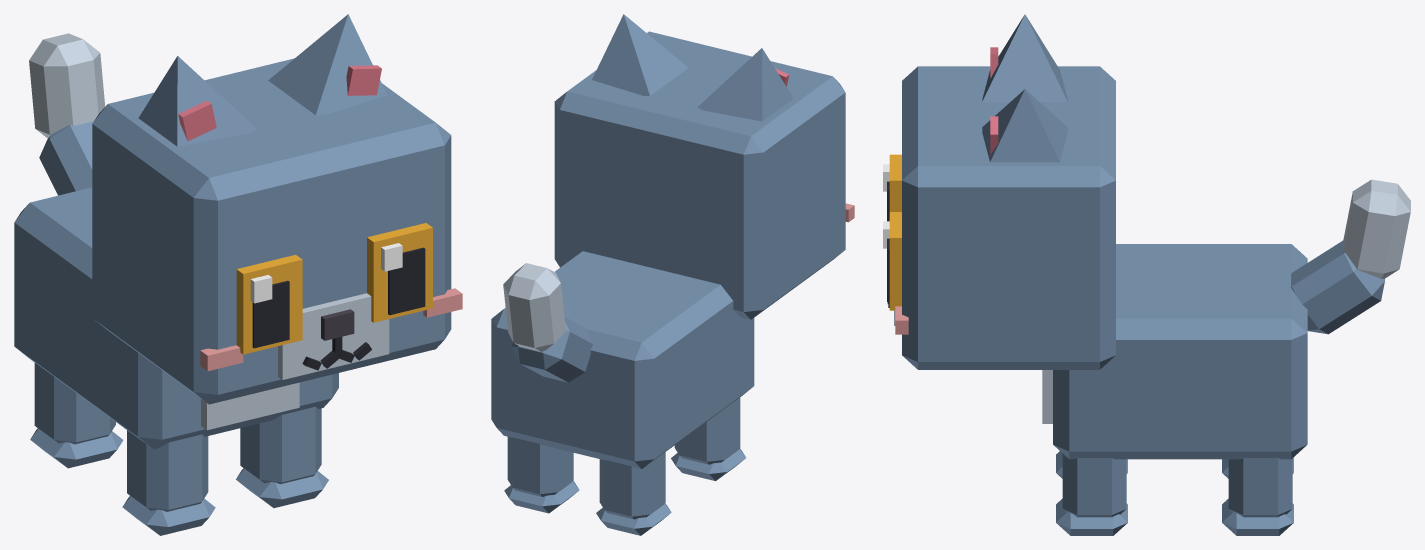
Rendered from CatCafe_Cat_Puddle.glb.
3 views of the same model, side by side, from view 1: azimuth 30°, elevation 25°; view 2: azimuth 150°, elevation 25°; view 3: azimuth 270°, elevation 25° (orthographic). The views are drawn at different scales.
Parts seen in each view (by area): view 1: CatCafe_Cat_Puddle_Head, CatCafe_Cat_Puddle_Body, CatCafe_Cat_Puddle_Tail, CatCafe_Cat_Puddle_LegF2, CatCafe_Cat_Puddle_LegF1, CatCafe_Cat_Puddle_EarL, CatCafe_Cat_Puddle_Eye2, CatCafe_Cat_Puddle_LegB2, CatCafe_Cat_Puddle_Eye1, CatCafe_Cat_Puddle_EarR; view 2: CatCafe_Cat_Puddle_Head, CatCafe_Cat_Puddle_Body, CatCafe_Cat_Puddle_Tail, CatCafe_Cat_Puddle_LegB2, CatCafe_Cat_Puddle_EarL, CatCafe_Cat_Puddle_LegB1, CatCafe_Cat_Puddle_EarR, CatCafe_Cat_Puddle_LegF2; view 3: CatCafe_Cat_Puddle_Head, CatCafe_Cat_Puddle_Body, CatCafe_Cat_Puddle_Tail, CatCafe_Cat_Puddle_LegF1, CatCafe_Cat_Puddle_LegB1, CatCafe_Cat_Puddle_EarL, CatCafe_Cat_Puddle_EarR, CatCafe_Cat_Puddle_Eye1, CatCafe_Cat_Puddle_Eye2.
Boxes of the visible parts, x1,y1,x2,y2 form: CatCafe_Cat_Puddle_Head: (92, 58, 462, 404); CatCafe_Cat_Puddle_Body: (14, 187, 338, 449); CatCafe_Cat_Puddle_Tail: (29, 33, 105, 195); CatCafe_Cat_Puddle_LegF2: (122, 430, 215, 535); CatCafe_Cat_Puddle_LegF1: (236, 406, 328, 507); CatCafe_Cat_Puddle_EarL: (268, 14, 387, 115); CatCafe_Cat_Puddle_Eye2: (236, 254, 302, 354); CatCafe_Cat_Puddle_LegB2: (30, 362, 123, 468); CatCafe_Cat_Puddle_Eye1: (367, 223, 432, 322); CatCafe_Cat_Puddle_EarR: (138, 56, 257, 146); CatCafe_Cat_Puddle_Head: (554, 31, 854, 319); CatCafe_Cat_Puddle_Body: (491, 251, 754, 469); CatCafe_Cat_Puddle_Tail: (503, 263, 592, 382); CatCafe_Cat_Puddle_LegB2: (596, 452, 671, 535); CatCafe_Cat_Puddle_EarL: (592, 14, 688, 95); CatCafe_Cat_Puddle_LegB1: (504, 437, 579, 513); CatCafe_Cat_Puddle_EarR: (697, 48, 793, 121); CatCafe_Cat_Puddle_LegF2: (671, 397, 746, 481); CatCafe_Cat_Puddle_Head: (887, 66, 1115, 369); CatCafe_Cat_Puddle_Body: (1042, 244, 1307, 459); CatCafe_Cat_Puddle_Tail: (1291, 179, 1410, 334); CatCafe_Cat_Puddle_LegF1: (1056, 454, 1127, 535); CatCafe_Cat_Puddle_LegB1: (1222, 458, 1293, 535); CatCafe_Cat_Puddle_EarL: (982, 89, 1067, 162); CatCafe_Cat_Puddle_EarR: (982, 14, 1067, 101); CatCafe_Cat_Puddle_Eye1: (883, 212, 901, 310); CatCafe_Cat_Puddle_Eye2: (883, 154, 901, 221).
Size of the model in its own units: 1 by 1.86 by 1.97.
1 material, 1 textured.
